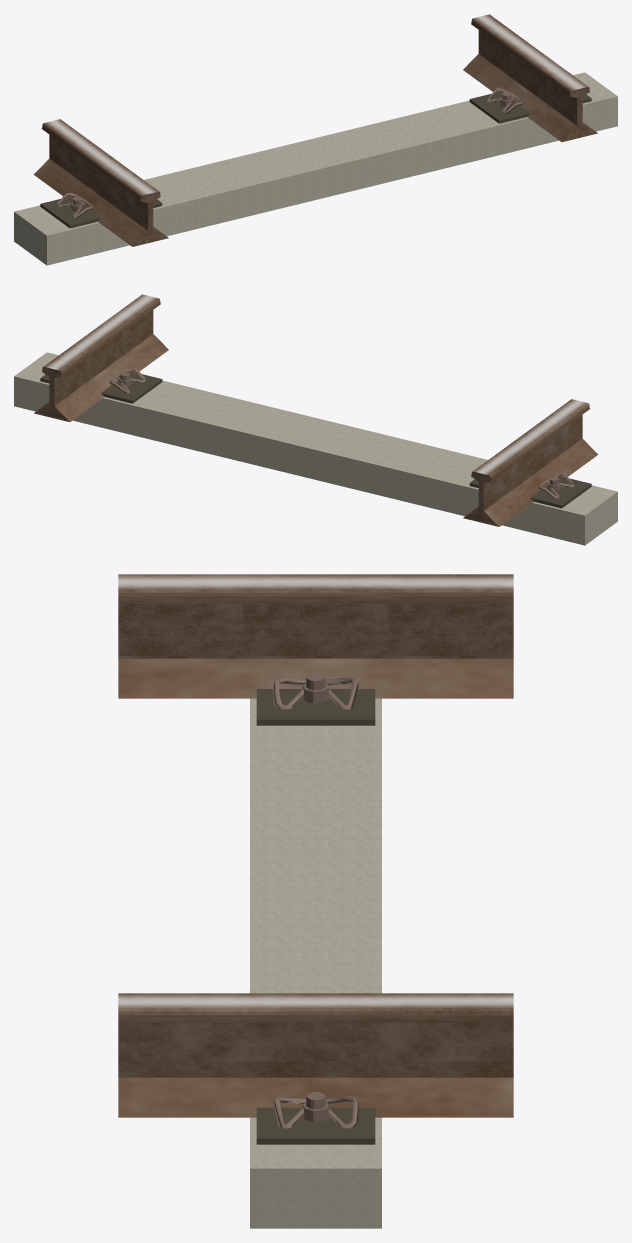
Rendered from main_tp1.obj.
The picture shows the model from 3 angles, top to bottom: view 1: azimuth 30°, elevation 25°; view 2: azimuth 150°, elevation 25°; view 3: azimuth 270°, elevation 25°; orthographic projection. The views are drawn at different scales.
Parts seen in each view (by area): view 1: zhenmu_type1, rail, daoding_1.1; view 2: zhenmu_type1, rail, daoding_1.1; view 3: rail, zhenmu_type1, daoding_1.1.
Boxes of the visible parts, left/top/right/bottom form: zhenmu_type1: left=14, top=72, right=617, bottom=265; rail: left=33, top=14, right=597, bottom=246; daoding_1.1: left=40, top=88, right=591, bottom=228; zhenmu_type1: left=14, top=352, right=617, bottom=545; rail: left=34, top=294, right=598, bottom=526; daoding_1.1: left=40, top=368, right=591, bottom=508; rail: left=118, top=574, right=513, bottom=1117; zhenmu_type1: left=250, top=698, right=381, bottom=1228; daoding_1.1: left=256, top=673, right=375, bottom=1144.
Size of the model in its own units: 2 by 0.2643 by 0.6.
5 materials, 5 textured.
